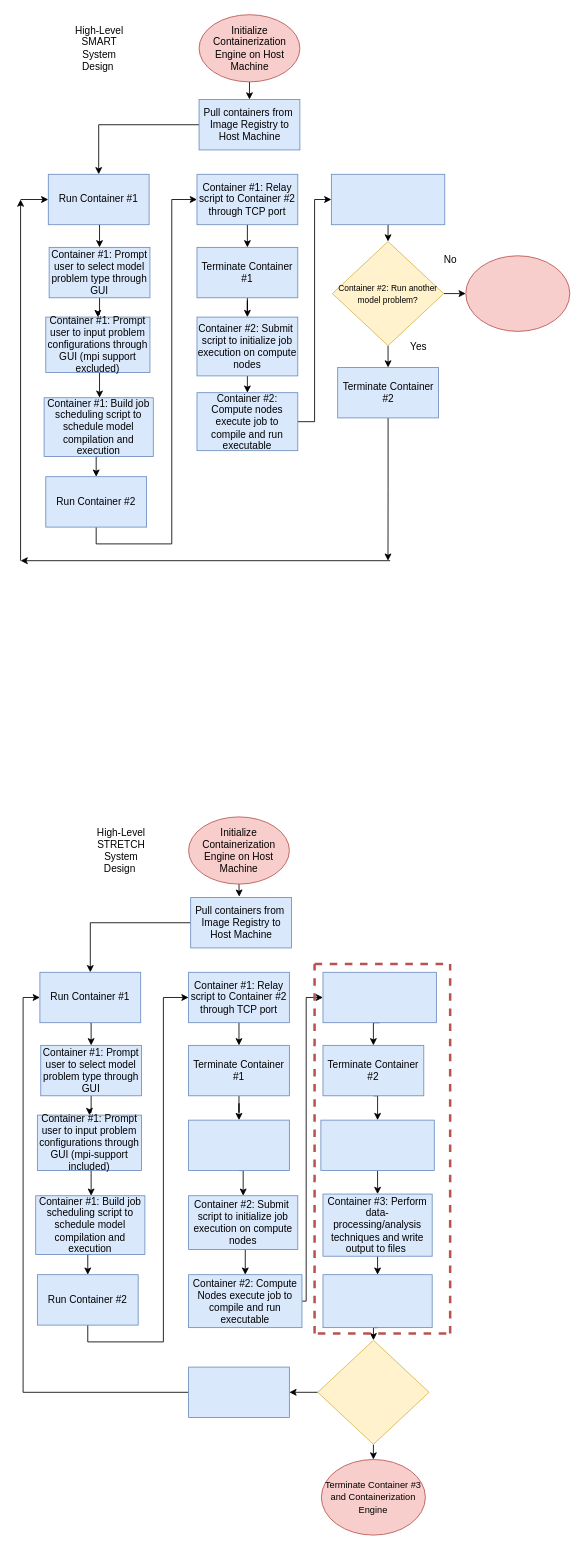
Image size: 585x1550. Some labels were removed from this diagram. The shapes that lost their labels are listed below. From the top down, each one's centre as x and y in pixels, then its label:
pixel 388 199: Container #2: Write model output out to file
pixel 517 293: Terminate Container #2 and Containerization Engine
pixel 379 997: Container #2: Relay model output to Container #3
pixel 238 1145: Run Container #3
pixel 377 1145: Container #3: Prompt user to select data-processing/analysis methods through GUI
pixel 377 1301: Container #3: Render output on GUI when desired by end user
pixel 238 1392: Terminate Container #3
pixel 373 1391: Container #3: Run another model problem?
